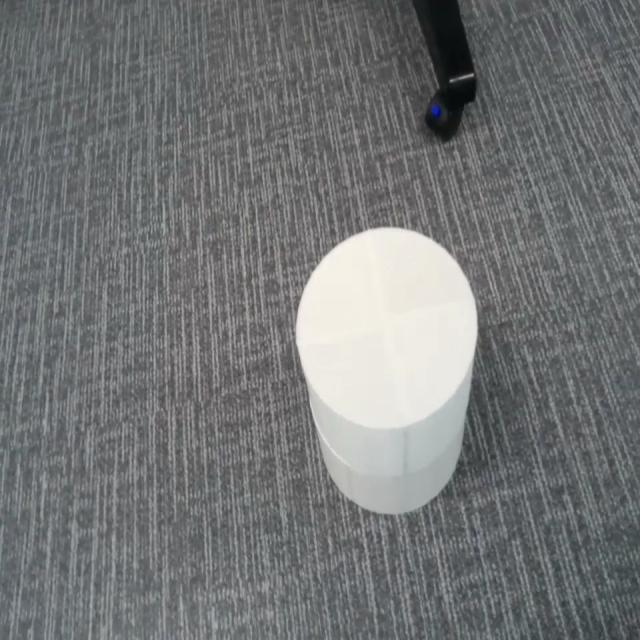cylinder: (294, 224, 478, 516)
